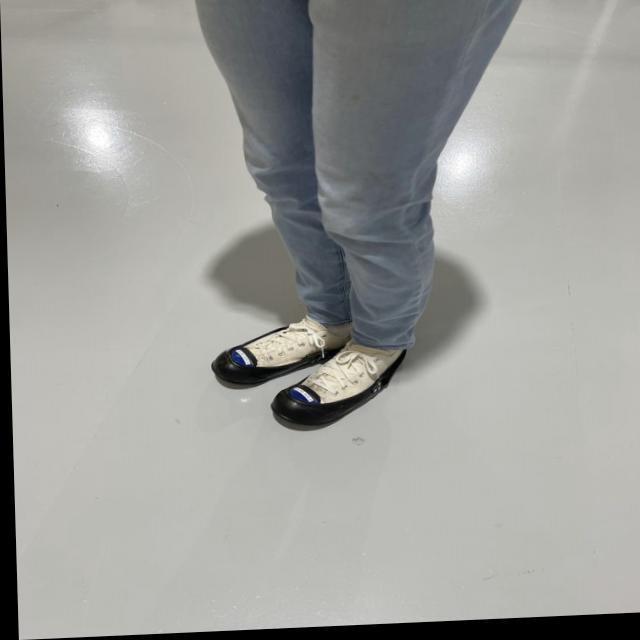shoes: (258, 346, 422, 437), (208, 318, 358, 382)
